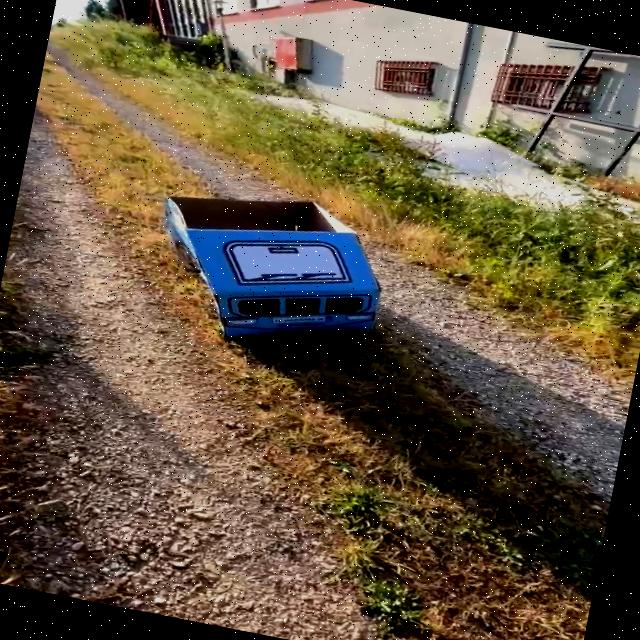blue_car: (87, 126, 450, 407)
